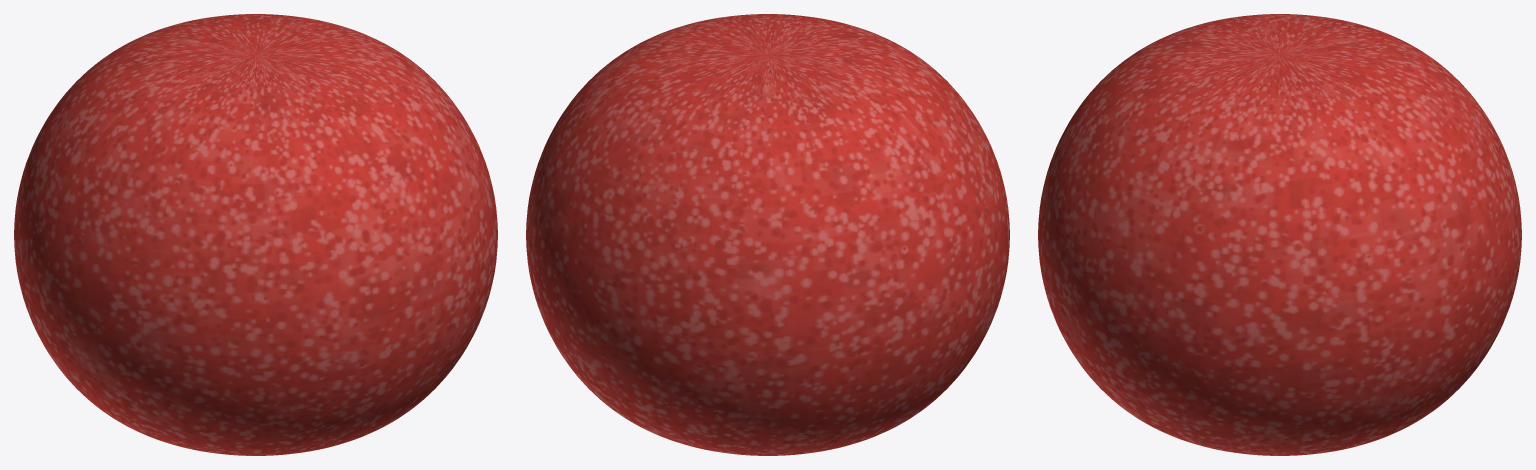
File: blood-orange.glb
3 views of the same model, side by side, from view 1: azimuth 30°, elevation 25°; view 2: azimuth 150°, elevation 25°; view 3: azimuth 270°, elevation 25° (orthographic).
Bounding box in the file's own units: 0.17 × 0.1394 × 0.17.
1 material, 1 textured.
